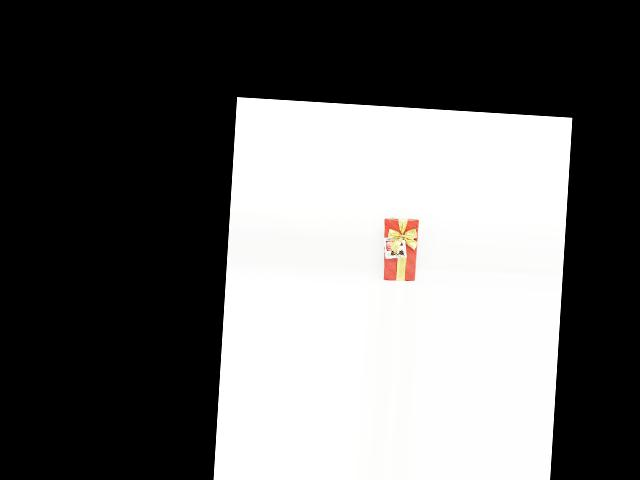chocolate: (381, 215, 421, 281)
